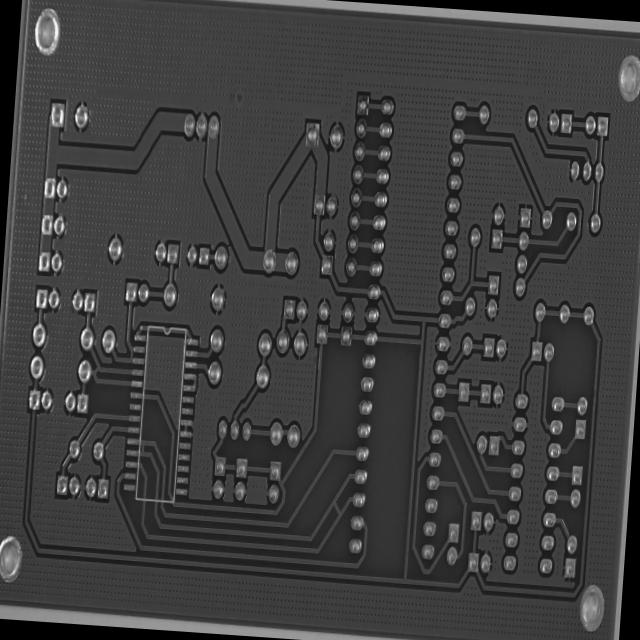short: (330, 496, 346, 524), (125, 341, 137, 363), (89, 362, 102, 382), (136, 436, 146, 458)
